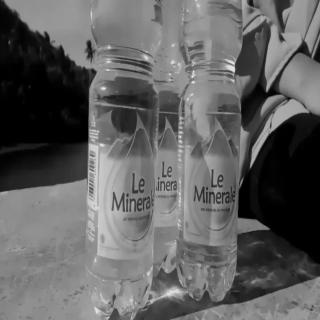plastic_bottles: (86, 0, 156, 320), (179, 5, 245, 294)
